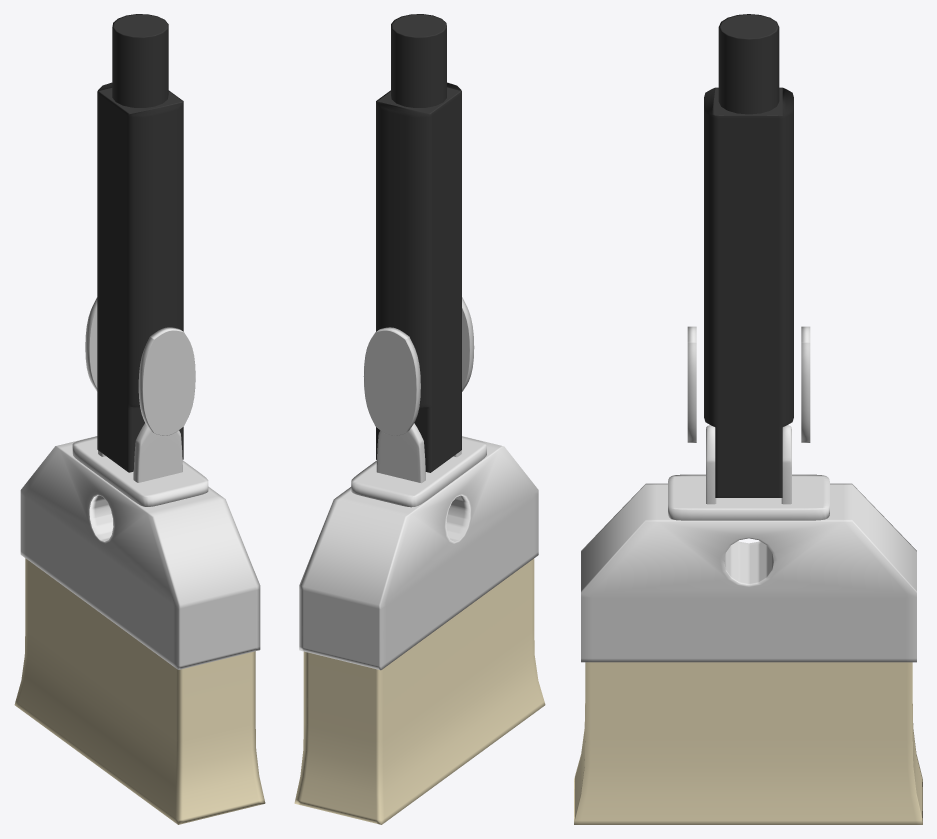
Rendered from moonkit-brush.glb.
3 views of the same model, side by side, from view 1: azimuth 30°, elevation 25°; view 2: azimuth 150°, elevation 25°; view 3: azimuth 270°, elevation 25° (orthographic). The views are drawn at different scales.
Parts seen in each view (by area): view 1: bristles, brush holder, handle-main, Circle, handle-base, handle-holders; view 2: bristles, brush holder, handle-main, Circle, handle-base, handle-holders; view 3: bristles, brush holder, handle-main, handle-base, Circle, handle-holders.
Part boxes in pixels (x1,y1,x2,y2): bristles: [14, 558, 265, 824]; brush holder: [20, 436, 260, 669]; handle-main: [97, 14, 183, 472]; Circle: [85, 297, 195, 435]; handle-base: [72, 436, 208, 506]; handle-holders: [98, 423, 182, 482]; bristles: [294, 558, 545, 824]; brush holder: [299, 436, 538, 670]; handle-main: [376, 14, 461, 472]; Circle: [363, 297, 474, 435]; handle-base: [351, 436, 486, 507]; handle-holders: [376, 423, 461, 483]; bristles: [574, 662, 922, 824]; brush holder: [581, 483, 916, 662]; handle-main: [704, 14, 793, 497]; handle-base: [668, 474, 829, 520]; Circle: [687, 326, 810, 442]; handle-holders: [706, 425, 791, 504].
Size of the model in its own units: 0.0406 by 0.3239 by 0.132.
